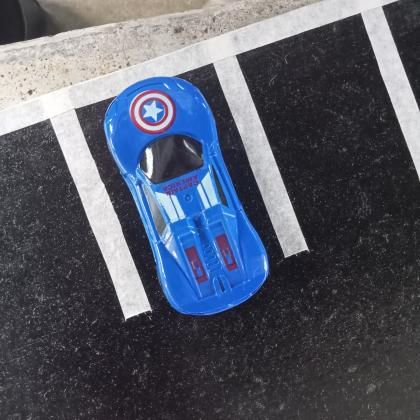Car: (103, 76, 269, 316)
